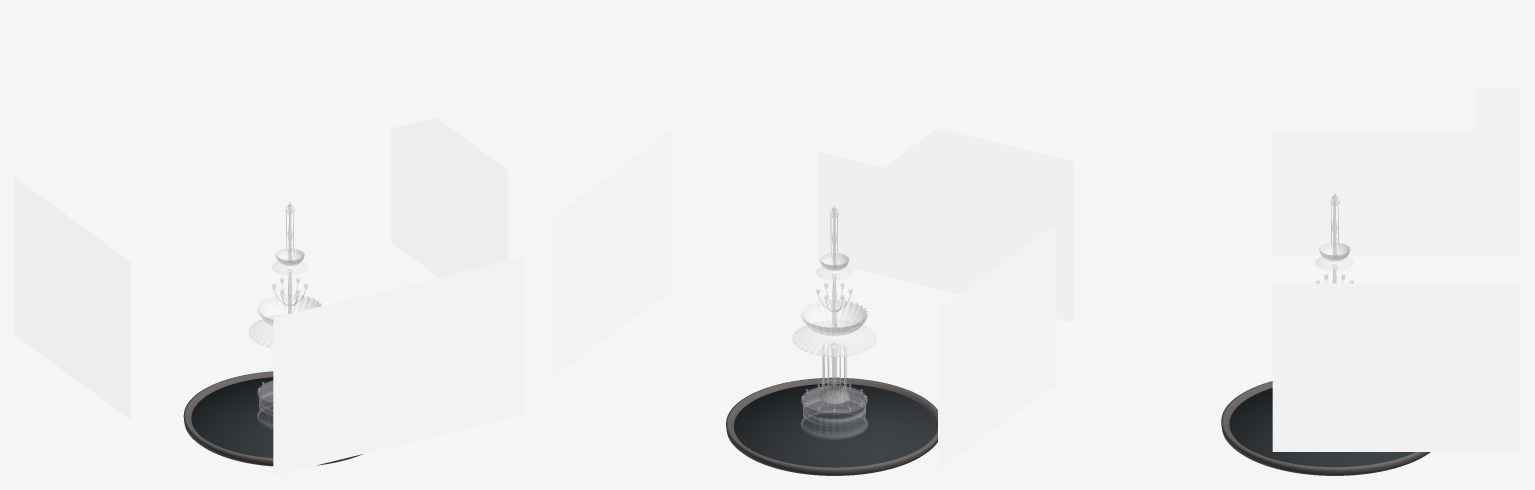
3 views of the same model, side by side, from view 1: azimuth 30°, elevation 25°; view 2: azimuth 150°, elevation 25°; view 3: azimuth 270°, elevation 25° (orthographic). The views are drawn at different scales.
Visible parts, largest first — view 1: SoftboxLeft, SoftboxFront, Basin, PlinthDrum; view 2: SoftboxLeft, SoftboxFront, Basin, PlinthDrum; view 3: SoftboxLeft, Basin, PlinthDrum.
Part boxes in pixels (bbox=[...]): SoftboxLeft: bbox=[14, 14, 507, 419]; SoftboxFront: bbox=[273, 257, 524, 475]; Basin: bbox=[183, 371, 362, 466]; PlinthDrum: bbox=[248, 202, 321, 428]; SoftboxLeft: bbox=[553, 14, 1056, 470]; SoftboxFront: bbox=[817, 128, 1073, 322]; Basin: bbox=[726, 377, 937, 475]; PlinthDrum: bbox=[792, 206, 876, 439]; SoftboxLeft: bbox=[1195, 14, 1520, 451]; Basin: bbox=[1221, 381, 1430, 475]; PlinthDrum: bbox=[1315, 193, 1353, 283].
Size of the model in its own units: 15 by 12.7 by 13.5.
4 materials, 4 textured.
